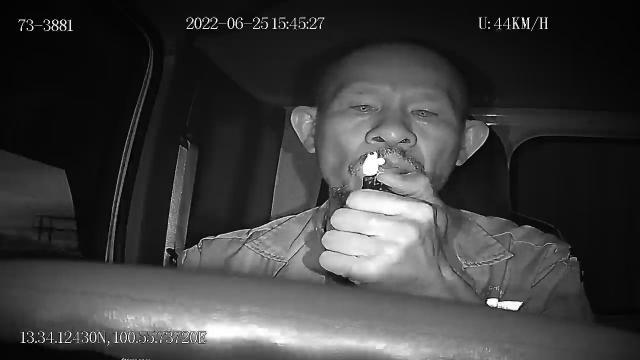SafeDriving: (402, 98, 447, 127), (341, 92, 382, 119)
Smoking: (378, 157, 394, 169)
